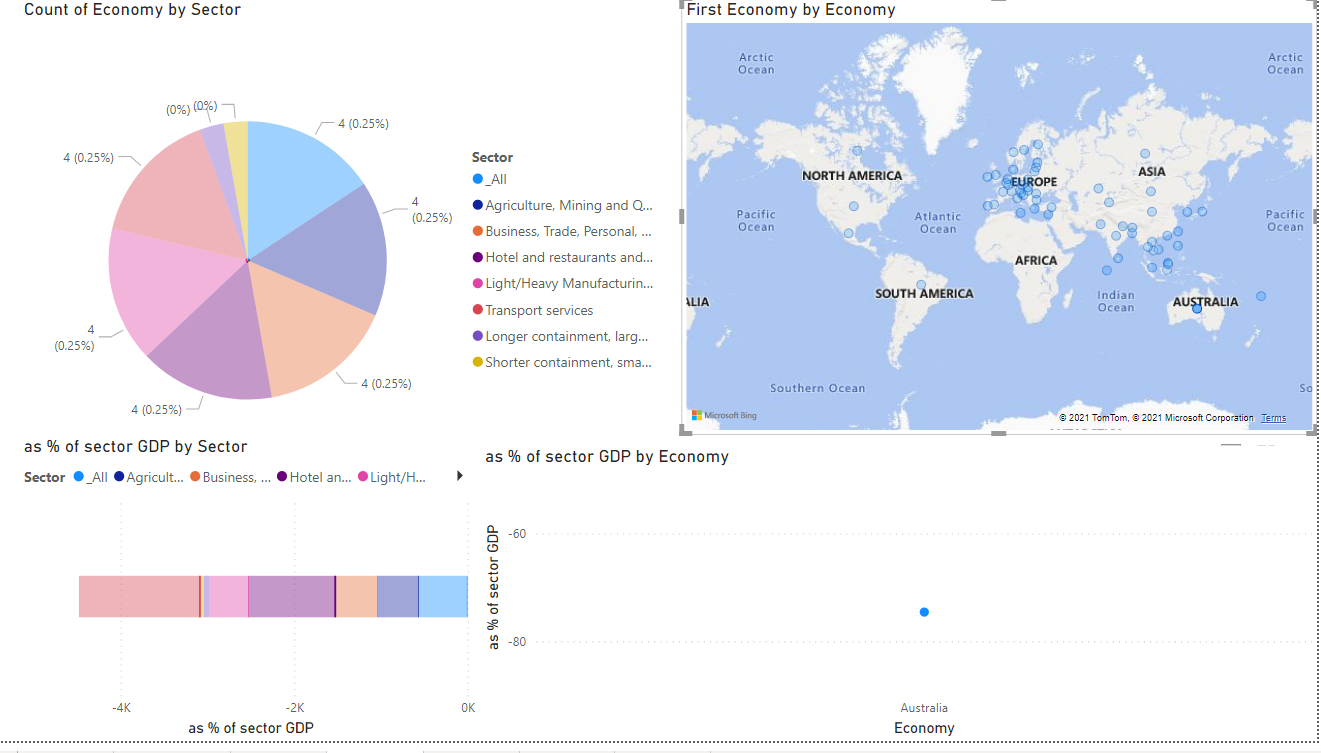

This screenshot's page, from the dashboard's own definition file:
{"tool":"powerbi","page":{"name":"Page 5","canvas":[1280,720],"ordinal":3},"visuals":[{"type":"pieChart","fields":{"Category":["covid19datasheet_032820.Sector"],"Y":["CountNonNull(covid19datasheet_032820.Economy)"]},"box":[23,0,630.5,488.9],"z":0},{"type":"map","fields":{"Category":["covid19datasheet_032820.Economy"]},"box":[664.3,0,615.9,423.5],"z":1000},{"type":"areaChart","fields":{"Category":["covid19datasheet_032820.Economy"],"Y":["Sum(covid19datasheet_032820.as % of sector GDP)"]},"box":[469.5,433.2,810.8,286.8],"z":2000},{"type":"barChart","fields":{"Series":["covid19datasheet_032820.Sector"],"Y":["Sum(covid19datasheet_032820.as % of sector GDP)"]},"box":[23,423.5,446.5,296.5],"z":3000}]}

Visuals, with their boxes in screenshot pixels (x1, y1, x2, y2), scaled from the page's 1280x720 canvas onto the 1321x753 screenshot:
pieChart - covid19datasheet_032820.Sector x CountNonNull(covid19datasheet_032820.Economy): bbox=(24, 0, 674, 511)
map - covid19datasheet_032820.Economy: bbox=(686, 0, 1320, 443)
areaChart - covid19datasheet_032820.Economy x Sum(covid19datasheet_032820.as % of sector GDP): bbox=(485, 453, 1320, 752)
barChart - covid19datasheet_032820.Sector x Sum(covid19datasheet_032820.as % of sector GDP): bbox=(24, 443, 485, 752)
